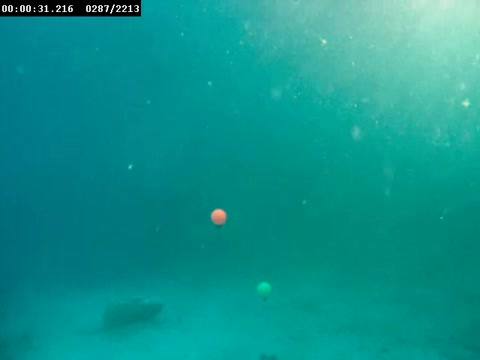buoy_green: (256, 280, 271, 300)
buoy_red: (210, 207, 227, 231)
